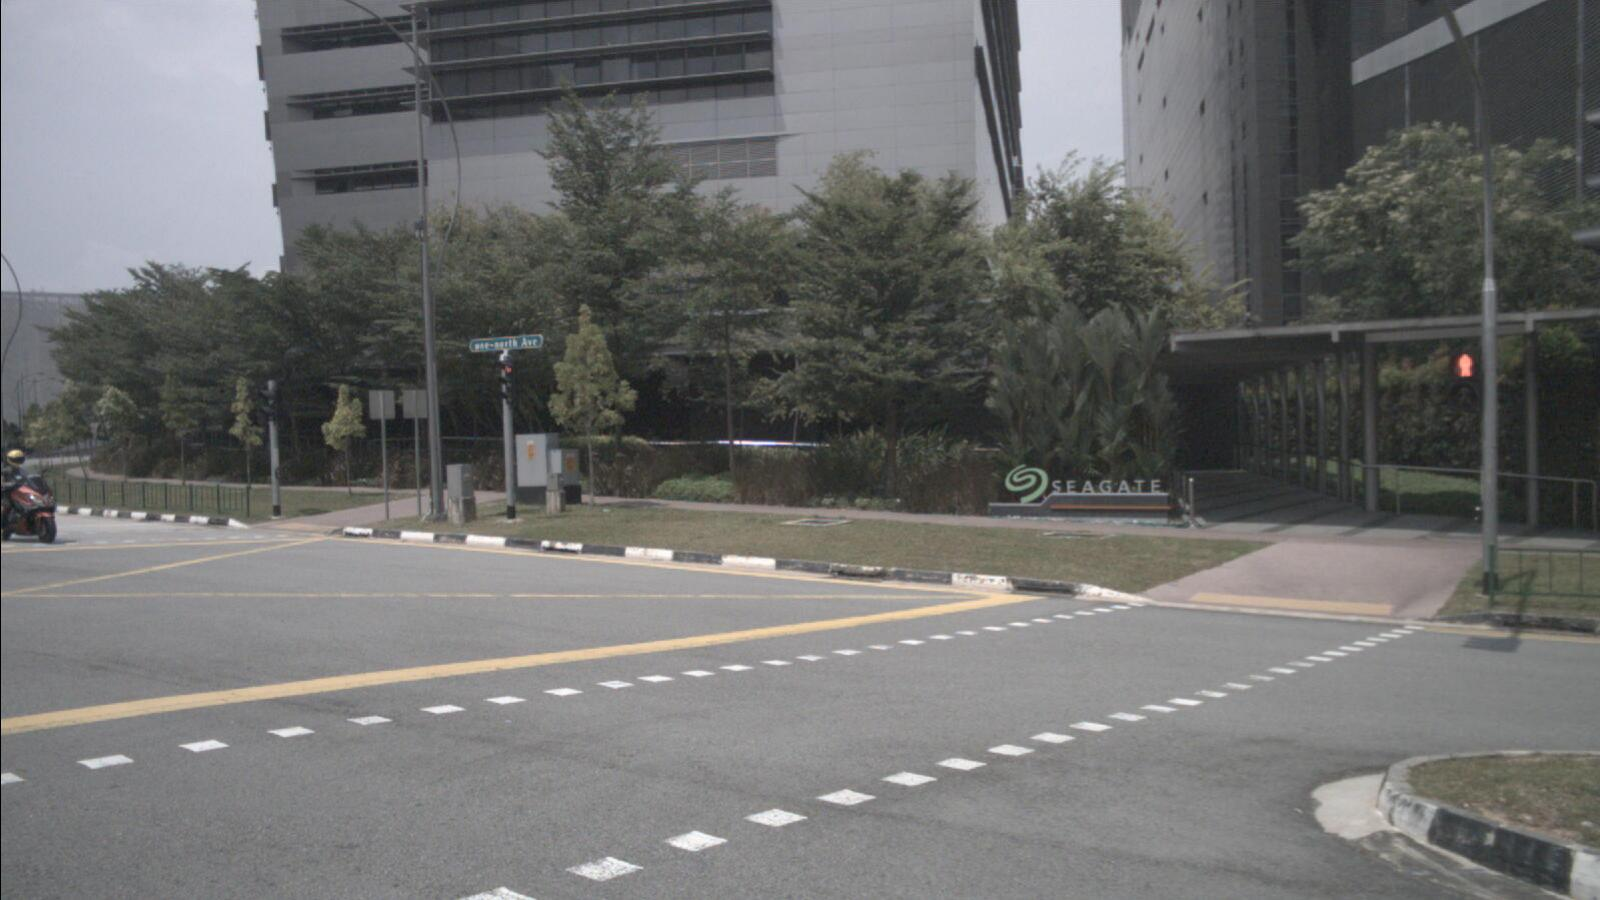vehicle.motorcycle-cycle.with_rider: (0, 450, 57, 544)
